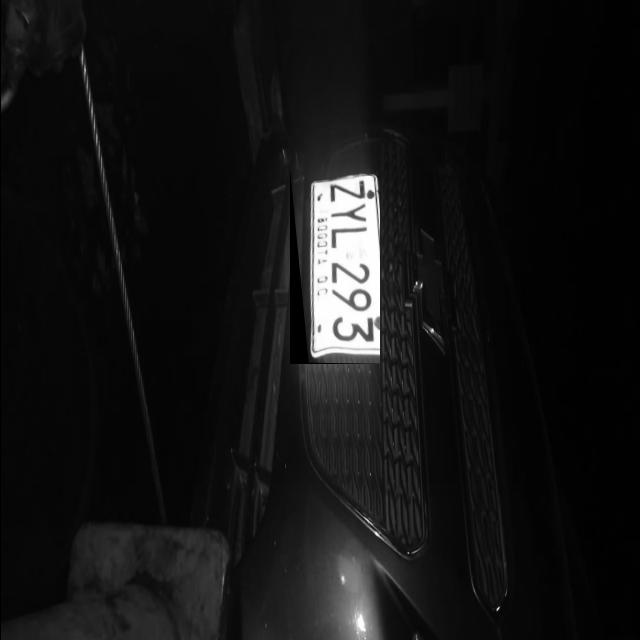plate: (288, 169, 378, 364)
